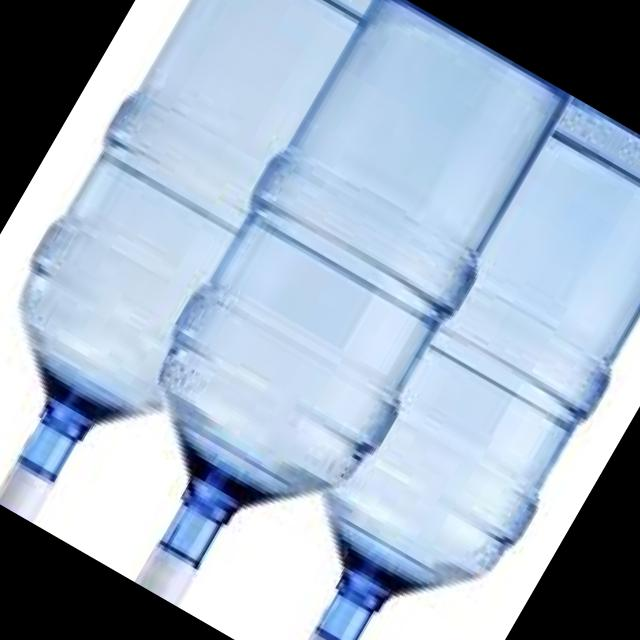Galon: (51, 0, 579, 640), (235, 90, 640, 640), (0, 0, 400, 552)
